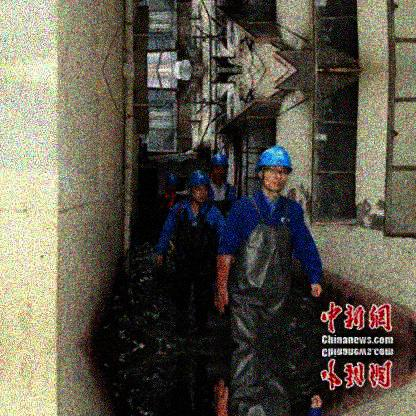helmet: (255, 145, 293, 193), (186, 171, 212, 206), (208, 152, 229, 181), (165, 174, 178, 194)
